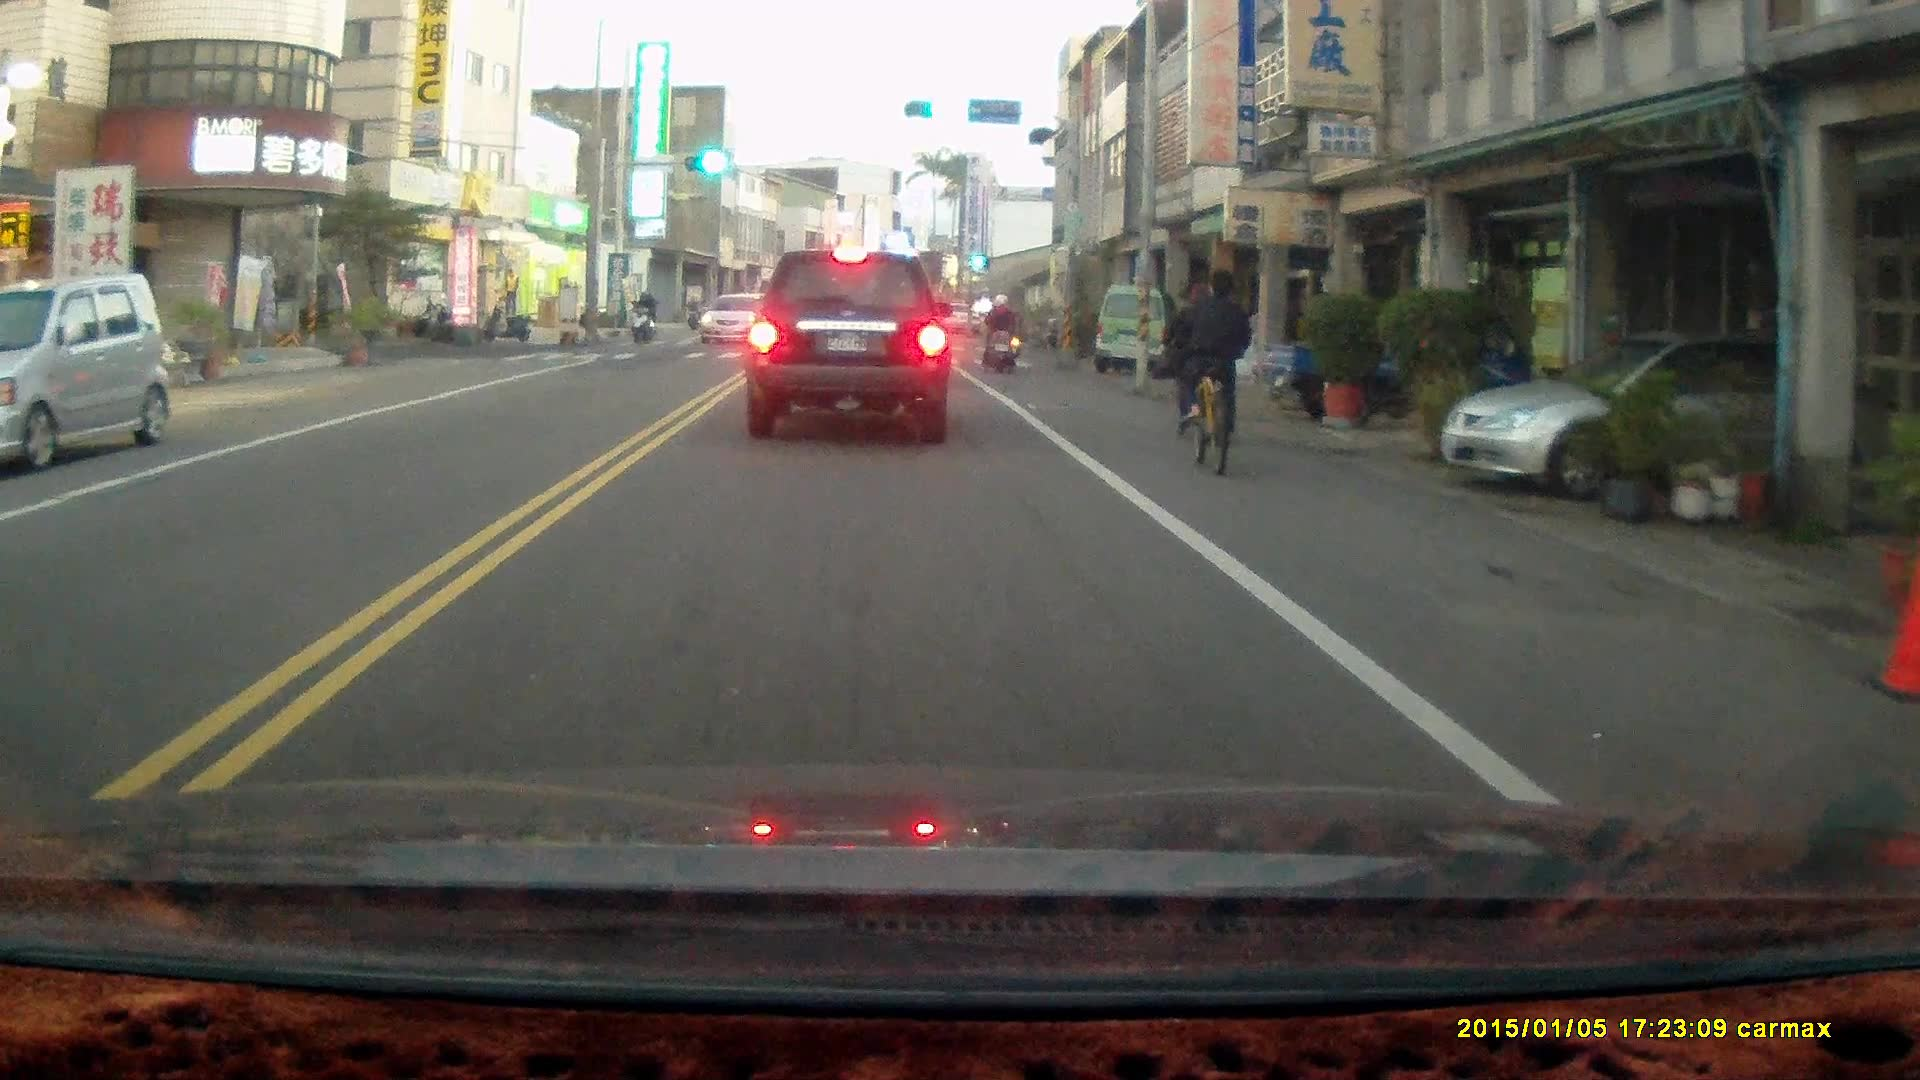pedestrian: (501, 266, 521, 316)
rider: (1182, 262, 1254, 470), (1162, 281, 1222, 442), (977, 288, 1021, 369), (628, 288, 656, 341)
vehicle: (1439, 325, 1868, 496), (742, 248, 957, 447), (1, 272, 175, 478), (1100, 281, 1187, 366)
